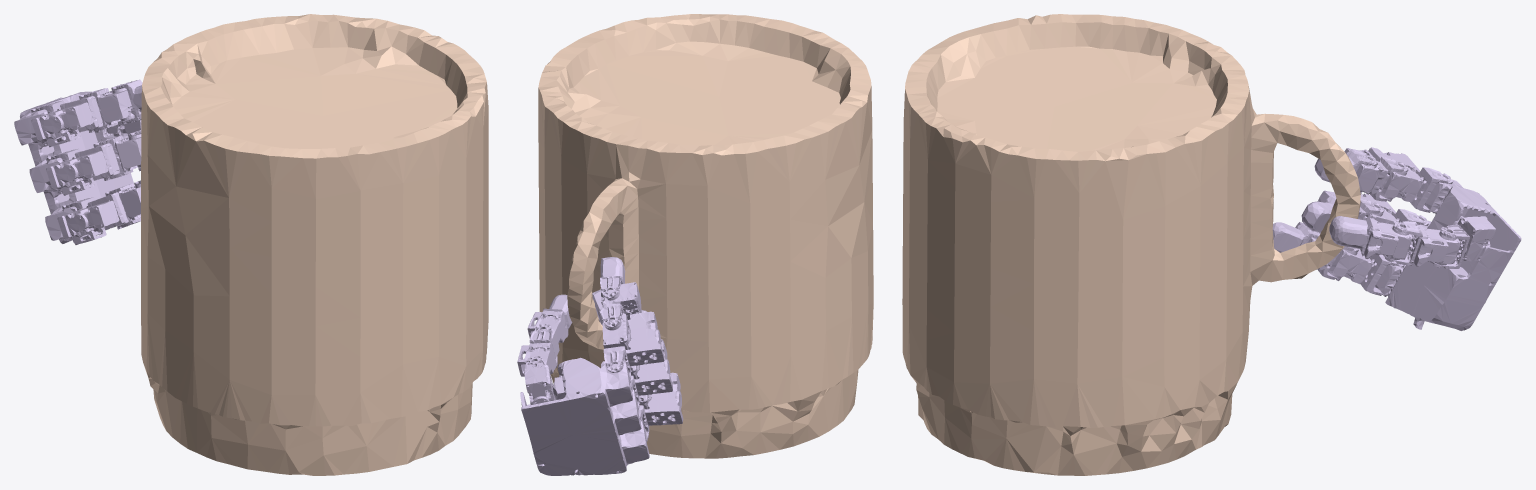
Rendered from 9e5aaf269bf343-closed.glb.
3 views of the same model, side by side, from view 1: azimuth 30°, elevation 25°; view 2: azimuth 150°, elevation 25°; view 3: azimuth 270°, elevation 25° (orthographic). The views are drawn at different scales.
Parts seen in each view (by area): view 1: world, LEAP_hand; view 2: world, LEAP_hand; view 3: world, LEAP_hand.
Part boxes in pixels (x1,y1,x2,y2): world: [141, 14, 488, 475]; LEAP_hand: [14, 79, 142, 244]; world: [538, 14, 873, 458]; LEAP_hand: [517, 257, 683, 475]; world: [902, 14, 1360, 475]; LEAP_hand: [1272, 147, 1521, 330].
Bounding box in the file's own units: 0.3121 × 0.3245 × 0.5563.
